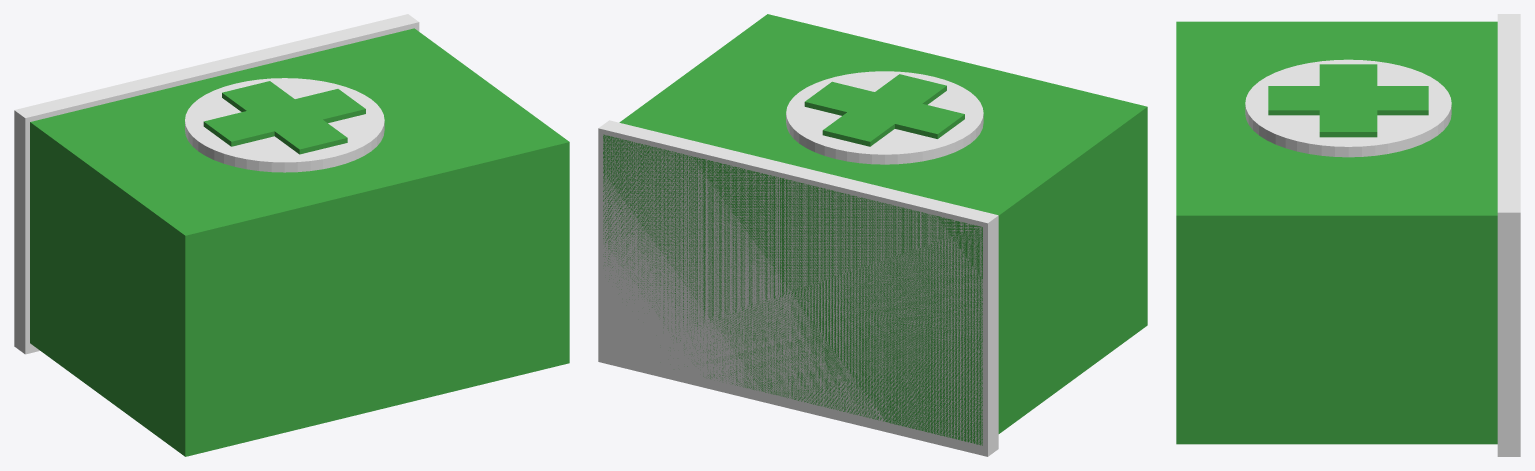
Rendered from tinker.obj.
3 renders of one model, left to right at view 1: azimuth 30°, elevation 25°; view 2: azimuth 150°, elevation 25°; view 3: azimuth 270°, elevation 25°, orthographic. The views are drawn at different scales.
Parts seen in each view (by area): view 1: obj_0, obj_6, obj_1, obj_2, obj_3; view 2: obj_0, obj_6, obj_1, obj_2, obj_3; view 3: obj_0, obj_6, obj_1, obj_3, obj_2.
Part boxes in pixels (x1,y1,x2,y2): obj_0: (30,28,569,456); obj_6: (14,14,419,354); obj_1: (185,78,384,172); obj_2: (222,81,347,154); obj_3: (203,89,365,146); obj_0: (603,14,1147,445); obj_6: (598,120,998,456); obj_1: (786,71,983,164); obj_2: (822,74,946,146); obj_3: (804,81,964,138); obj_0: (1176,21,1497,444); obj_6: (1497,14,1520,456); obj_1: (1245,59,1451,157); obj_3: (1319,64,1377,137); obj_2: (1268,86,1428,115).
Bounding box in the file's own units: 20.5 × 12.75 × 15.
